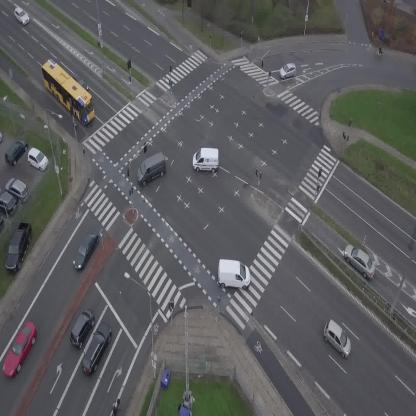bicycle: (372, 44, 386, 59), (111, 397, 122, 416)
bus: (33, 56, 104, 127)
car: (0, 320, 43, 379), (77, 320, 117, 378), (317, 318, 359, 359), (338, 241, 381, 281), (65, 305, 99, 349), (69, 228, 102, 272), (71, 72, 92, 93), (11, 5, 32, 26), (277, 62, 298, 80)
lorry: (131, 151, 171, 187), (218, 259, 250, 289), (192, 148, 219, 172)
